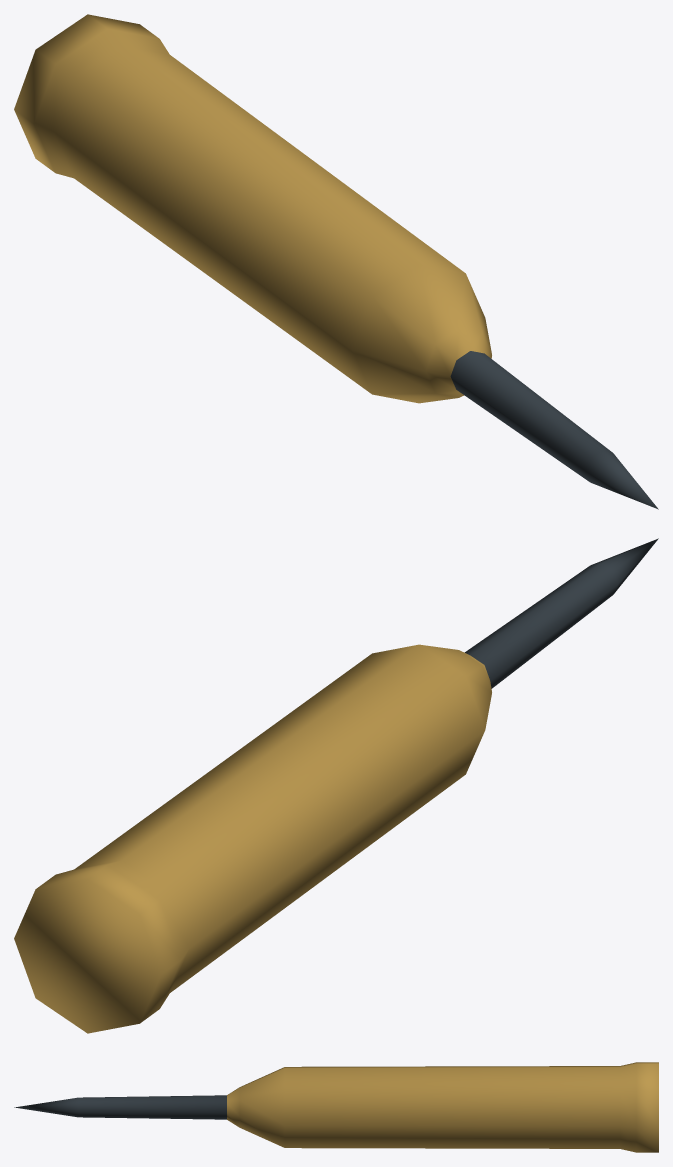
The model's file is tank_dart_round_game.glb.
3 renders of one model, top to bottom at view 1: azimuth 30°, elevation 25°; view 2: azimuth 150°, elevation 25°; view 3: azimuth 270°, elevation 25°, orthographic. The views are drawn at different scales.
Parts seen in each view (by area): view 1: AMMO_MESH.036; view 2: AMMO_MESH.036; view 3: AMMO_MESH.036.
Part boxes in pixels (box(x1,y1,x2,y2)): AMMO_MESH.036: box(14, 14, 658, 509); AMMO_MESH.036: box(14, 538, 658, 1033); AMMO_MESH.036: box(14, 1062, 658, 1152).
Size of the model in its own units: 0.14 by 0.14 by 0.94.
